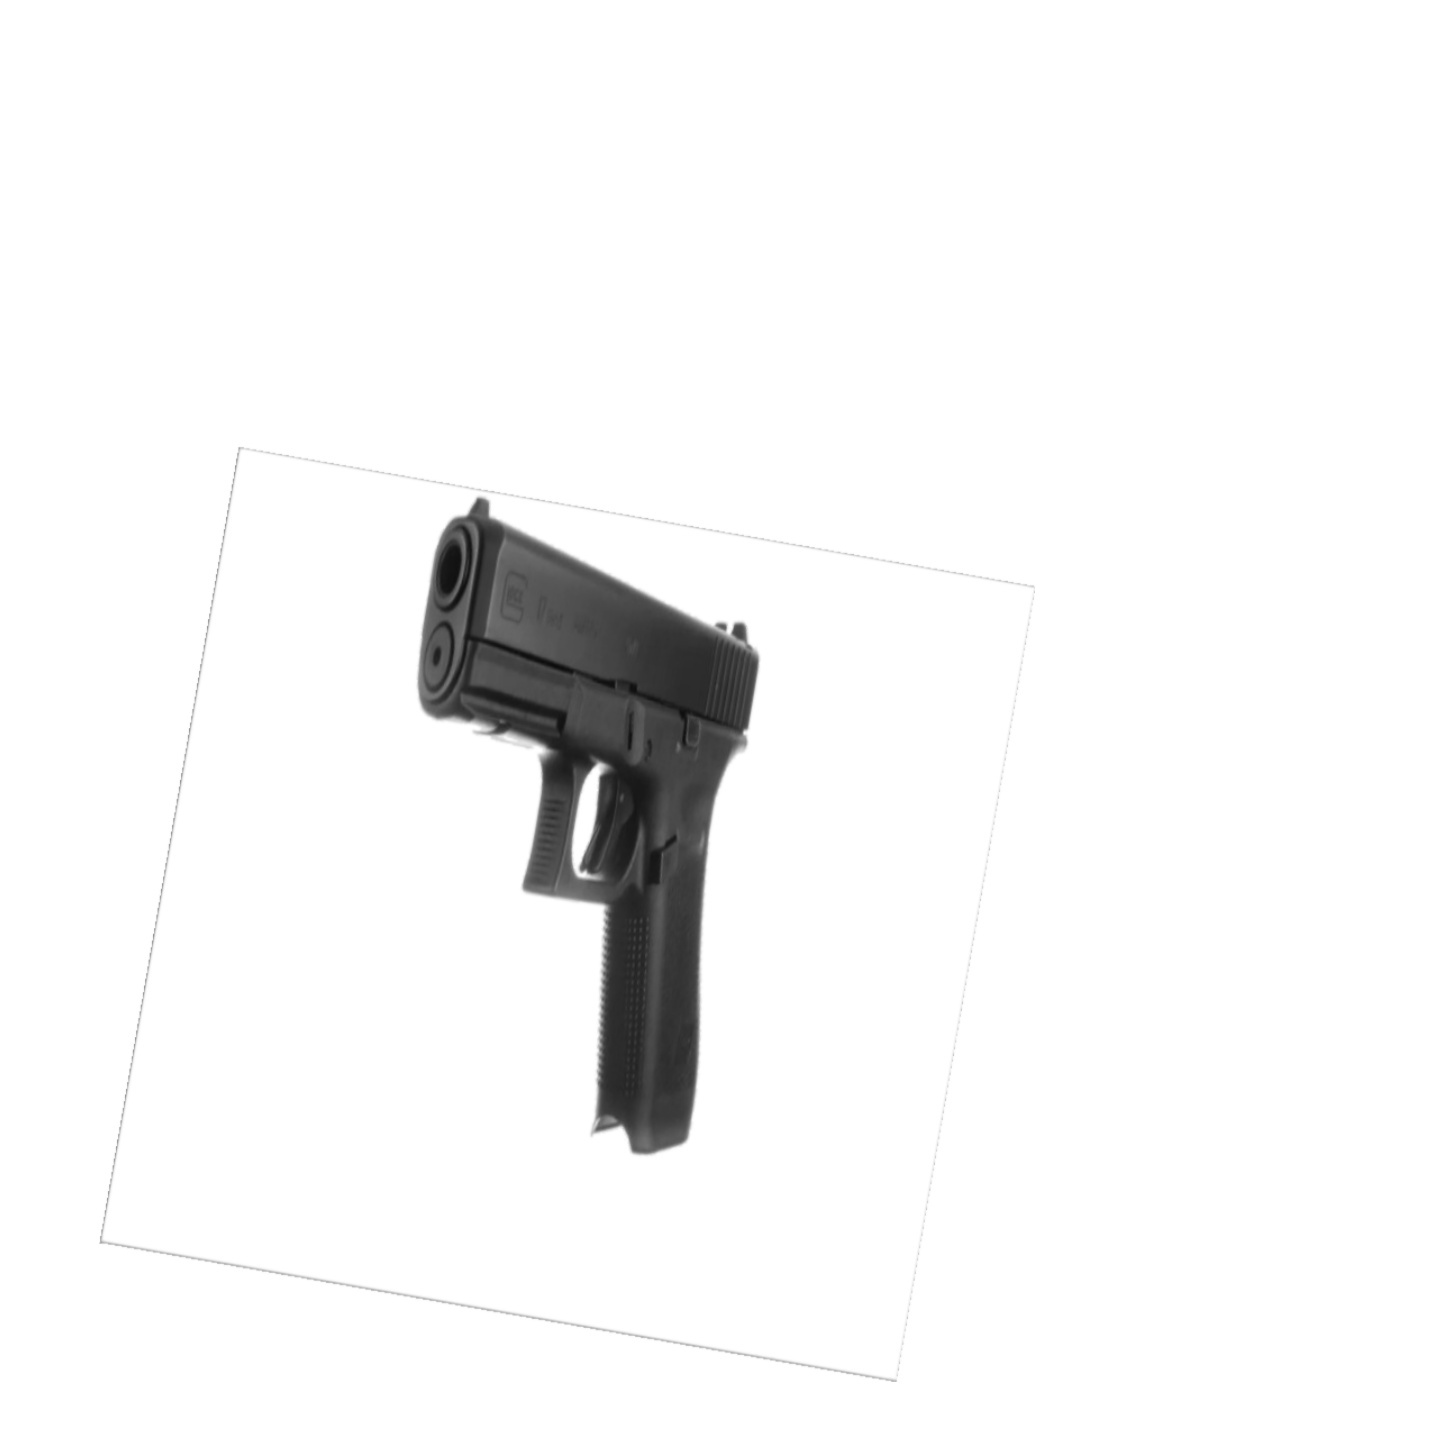gun: (416, 499, 762, 1158)
